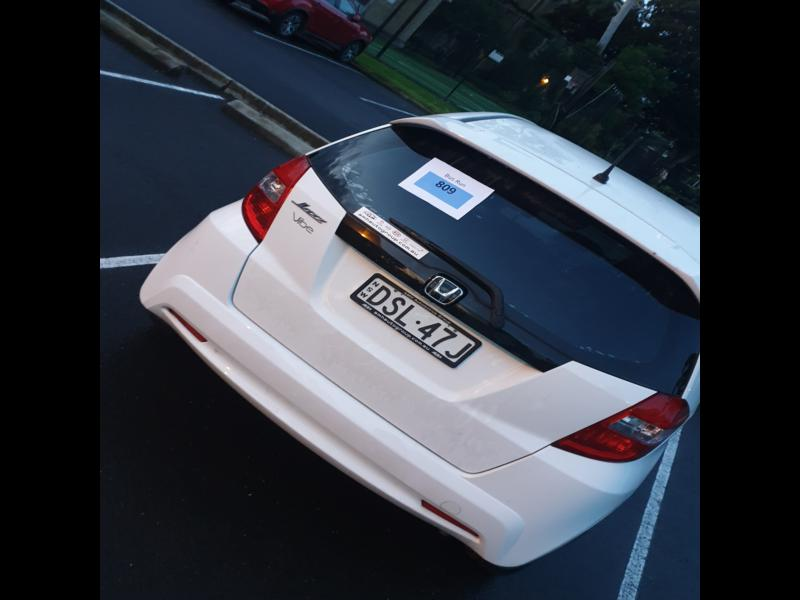BusRun: (416, 171, 473, 207)
PlateNo: (341, 274, 478, 372)
